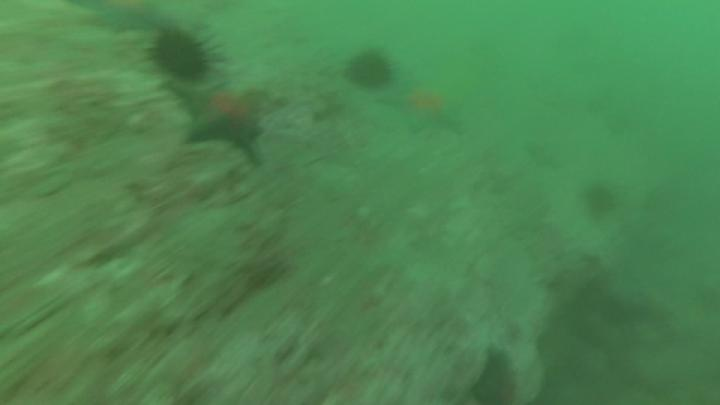echinus: (143, 21, 227, 88), (342, 45, 399, 94), (581, 180, 624, 224)
starfish: (178, 82, 274, 172), (380, 76, 466, 139), (76, 1, 163, 38)
